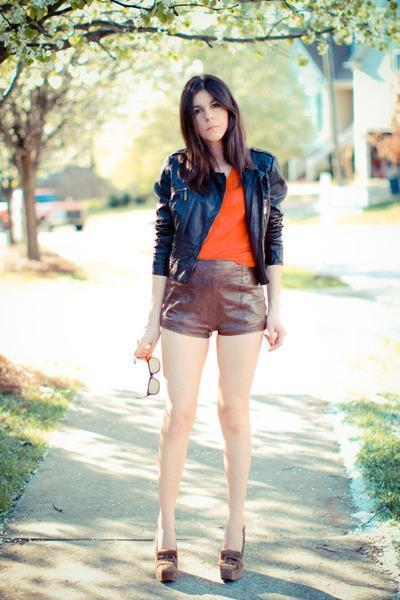jacket: (153, 149, 286, 285)
shirt: (199, 180, 251, 266)
shoe: (157, 529, 244, 591)
shorts: (159, 255, 273, 338)
